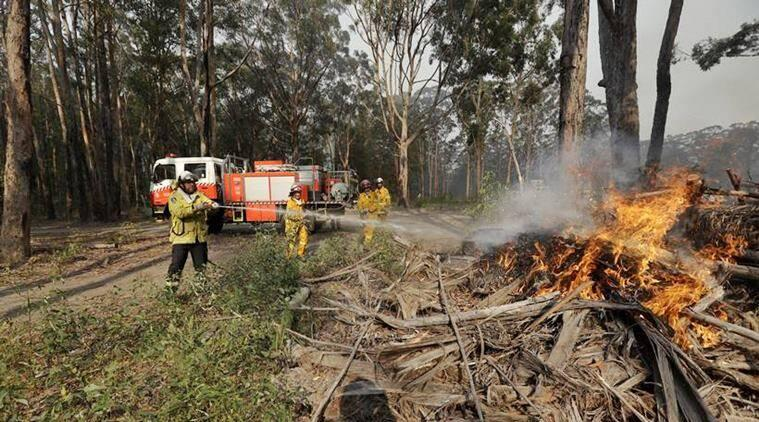fire: (498, 161, 750, 351)
smoke: (484, 128, 636, 235)
